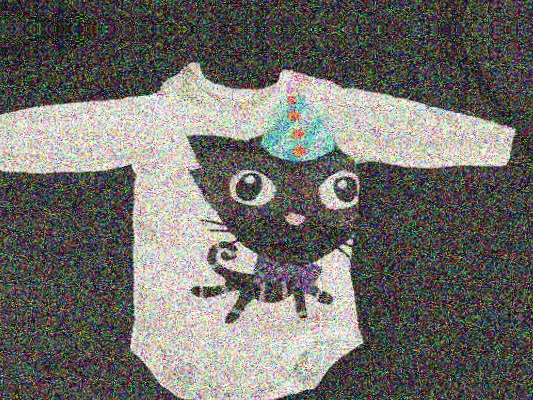Body: (0, 76, 519, 400)
